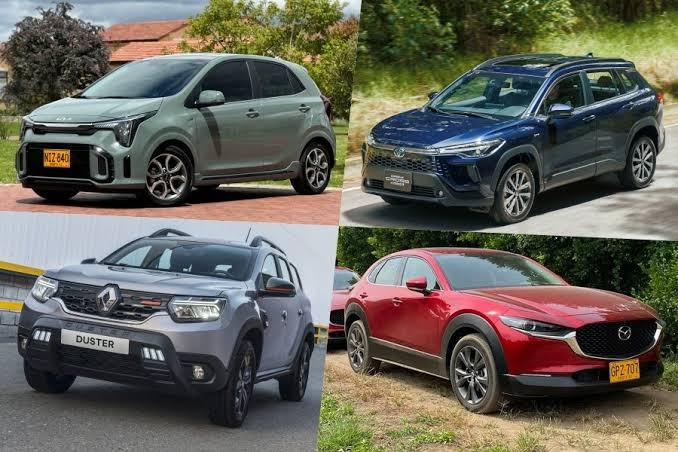car: (12, 73, 337, 314), (2, 222, 329, 420), (337, 239, 671, 409), (18, 48, 347, 207), (362, 51, 668, 219), (319, 266, 362, 339)
